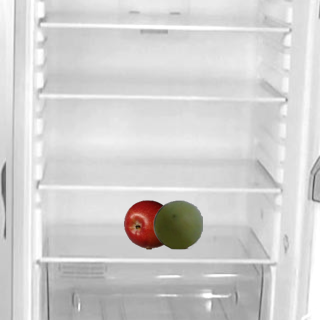Apple Braeburn: (123, 199, 173, 249)
Grape White 4: (152, 199, 202, 249)
